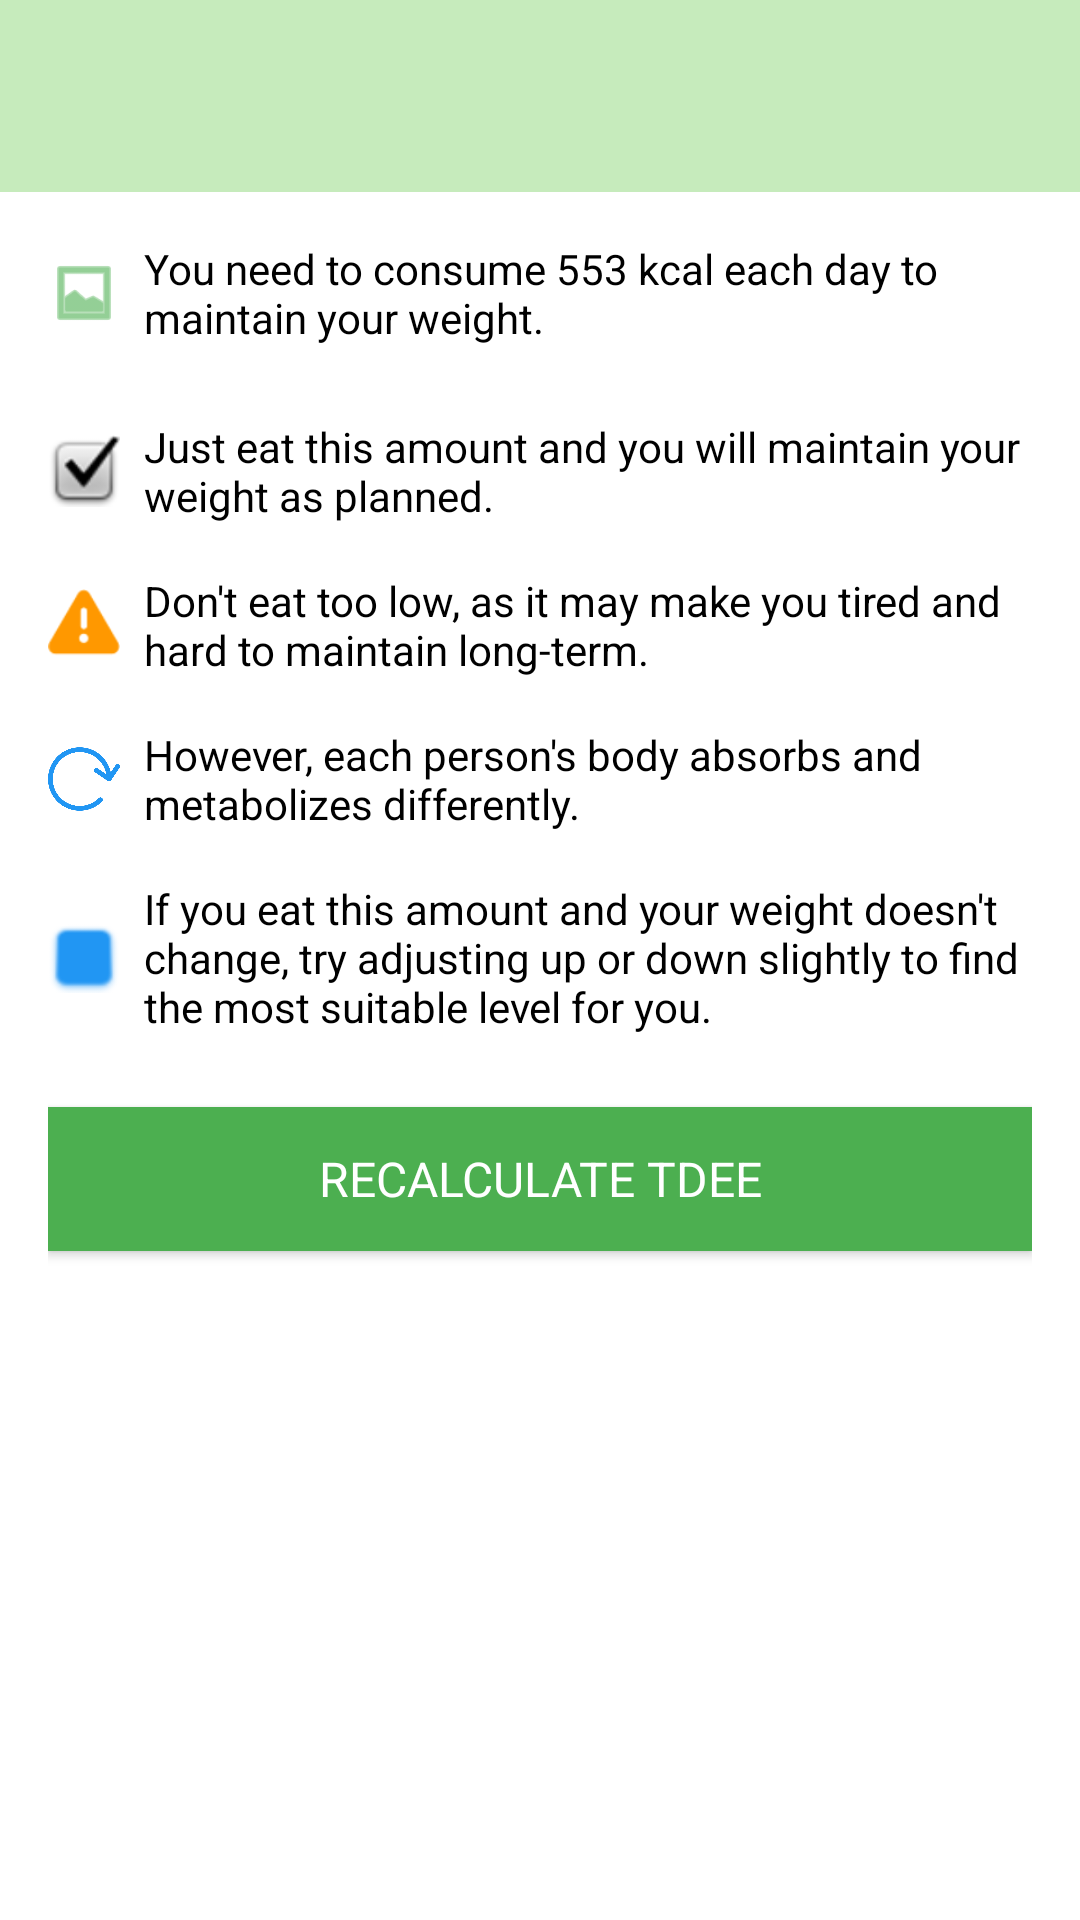

Screen size 1080px x 1920px. Icon name, then its box in pixels as (x1, y1, x2, y2):
alert: (48, 589, 120, 655)
gallery: (57, 266, 111, 320)
reload: (48, 747, 120, 811)
